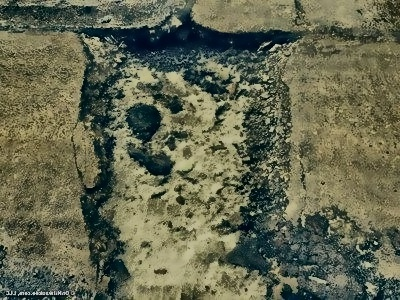pothole: (72, 15, 311, 299)
